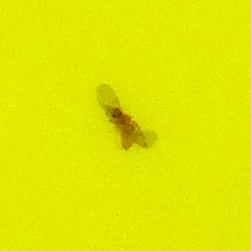Isoptera: (100, 100, 151, 151)
